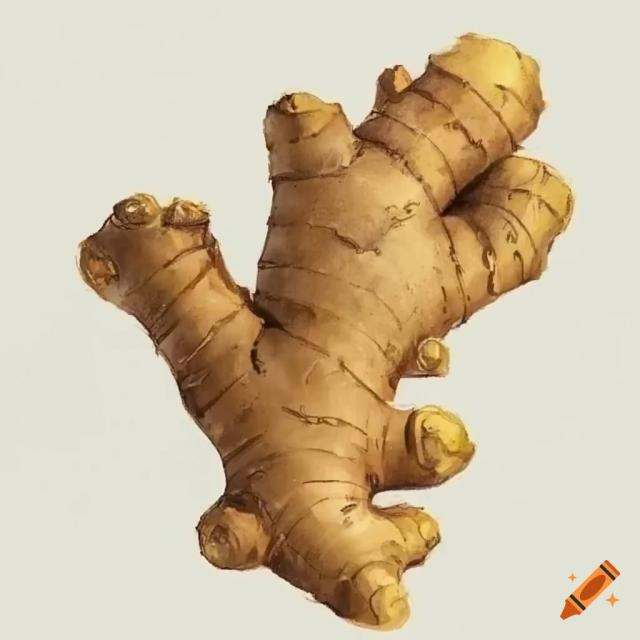ginger-root: (61, 0, 558, 638)
